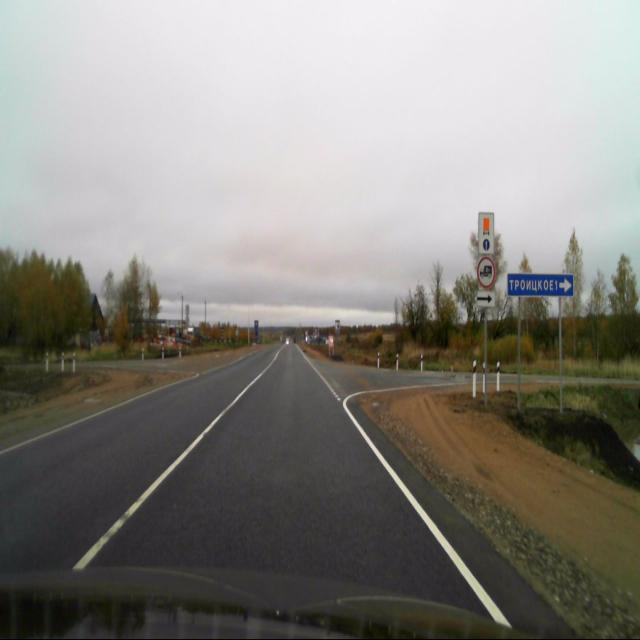object: (484, 308, 488, 412)
road sign: (478, 212, 494, 253), (477, 291, 494, 307)
